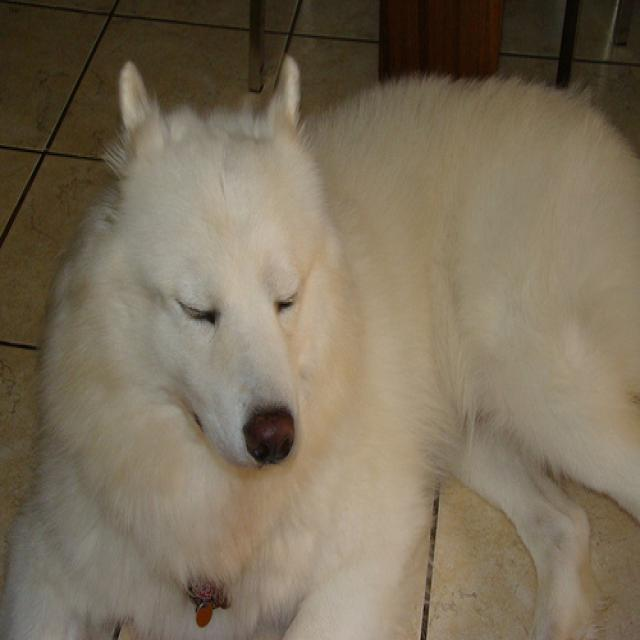dog-samoyed: (1, 46, 637, 637)
